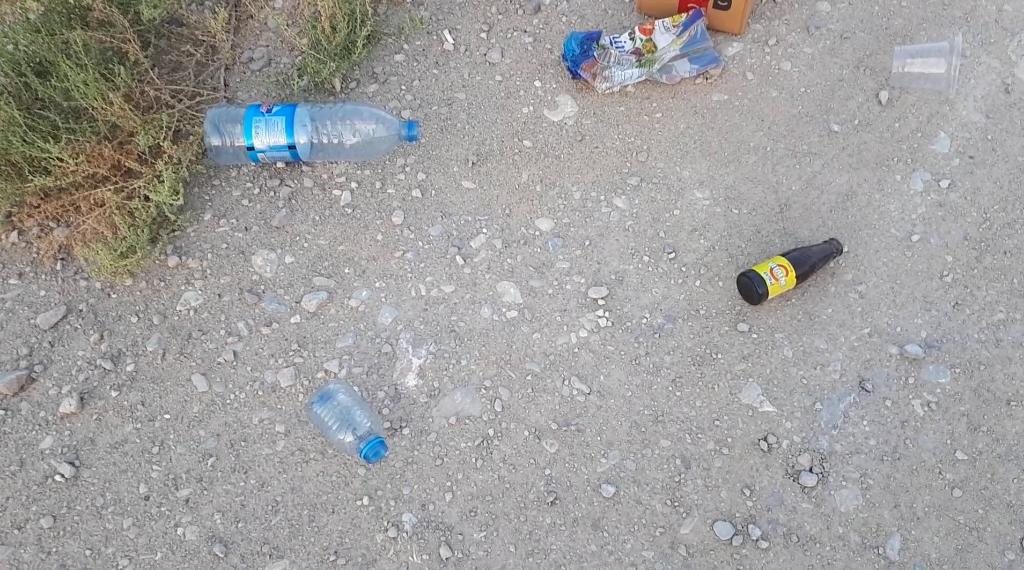garbage: (202, 102, 418, 165), (736, 238, 843, 306), (306, 380, 388, 464)
